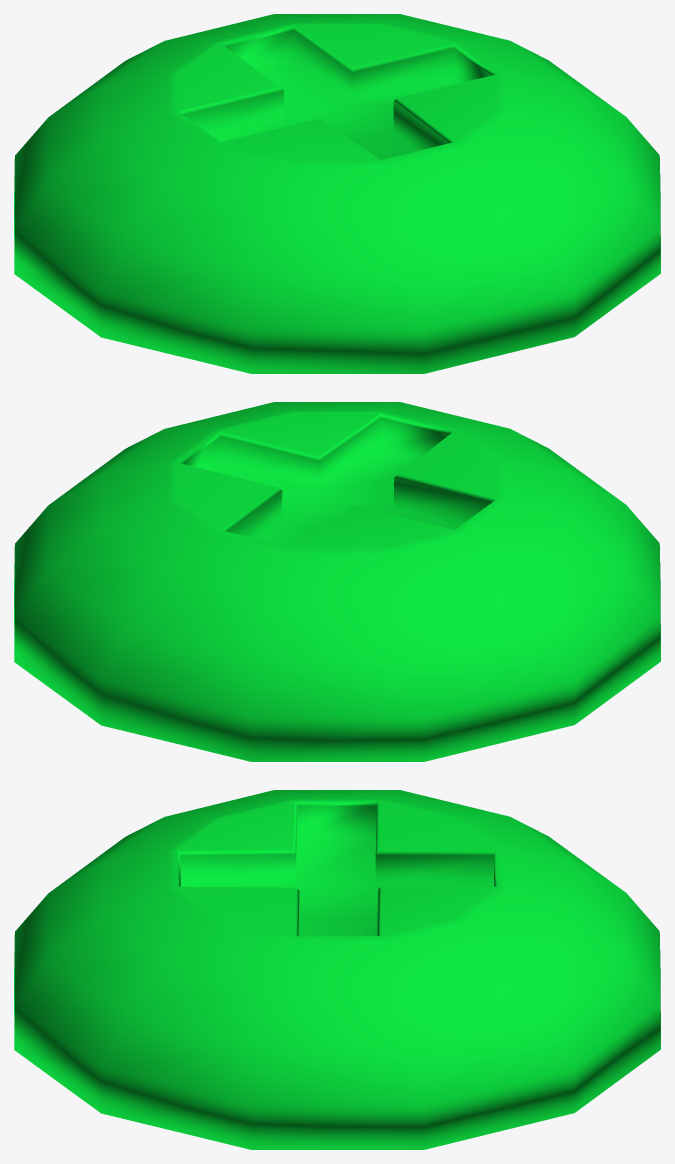
The model's file is Screw_A.fbx.
The picture shows the model from 3 angles, top to bottom: view 1: azimuth 30°, elevation 25°; view 2: azimuth 150°, elevation 25°; view 3: azimuth 270°, elevation 25°; orthographic projection.
Visible parts, largest first — view 1: Screw_A; view 2: Screw_A; view 3: Screw_A.
Part boxes in pixels (x1=…): Screw_A: x1=14, y1=14, x2=660, y2=373; Screw_A: x1=14, y1=402, x2=660, y2=761; Screw_A: x1=14, y1=790, x2=660, y2=1149.
Bounding box in the file's own units: 1.19 × 0.2948 × 1.19.
